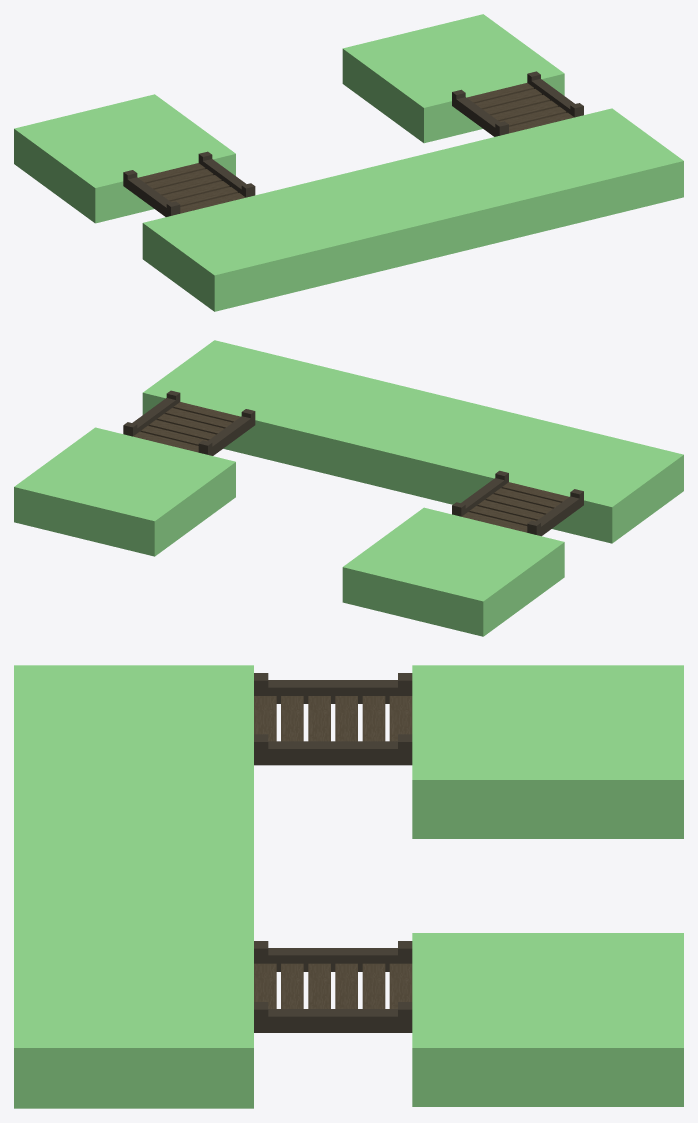
Rendered from New_Map_1.fbx.
The picture shows the model from 3 angles, top to bottom: view 1: azimuth 30°, elevation 25°; view 2: azimuth 150°, elevation 25°; view 3: azimuth 270°, elevation 25°; orthographic projection. The views are drawn at different scales.
Parts seen in each view (by area): view 1: Cube, Cube.001, Cube.002, Edge 2, Edge 2.001, Edge 1, Edge 1.001, Plank 1, Plank 2, Plank 3, Plank 4.001, Plank 1.001 (+7 smaller); view 2: Cube, Cube.002, Cube.001, Edge 2.001, Edge 2, Edge 1.001, Edge 1, Plank 3.001, Plank 4.001, Plank 3, Plank 4, Plank 5 (+7 smaller); view 3: Cube, Cube.001, Cube.002, Edge 1, Edge 1.001, Edge 2, Edge 2.001, Plank 2, Plank 2.001, Plank 3, Plank 4, Plank 5 (+7 smaller).
Boxes of the visible parts, left/top/right/bottom form: Cube: left=142, top=108, right=683, bottom=311; Cube.001: left=342, top=14, right=564, bottom=143; Cube.002: left=14, top=94, right=235, bottom=223; Edge 2: left=123, top=170, right=180, bottom=216; Edge 2.001: left=452, top=89, right=508, bottom=136; Edge 1: left=198, top=151, right=255, bottom=197; Edge 1.001: left=527, top=71, right=583, bottom=117; Plank 1: left=138, top=163, right=205, bottom=183; Plank 2: left=146, top=169, right=213, bottom=189; Plank 3: left=154, top=175, right=221, bottom=195; Plank 4.001: left=491, top=100, right=558, bottom=121; Plank 1.001: left=467, top=83, right=533, bottom=103; Cube: left=142, top=340, right=683, bottom=543; Cube.002: left=342, top=507, right=564, bottom=636; Cube.001: left=14, top=427, right=235, bottom=556; Edge 2.001: left=198, top=409, right=255, bottom=455; Edge 2: left=527, top=489, right=583, bottom=536; Edge 1.001: left=123, top=390, right=180, bottom=436; Edge 1: left=452, top=470, right=508, bottom=516; Plank 3.001: left=149, top=420, right=216, bottom=440; Plank 4.001: left=157, top=414, right=224, bottom=434; Plank 3: left=477, top=500, right=544, bottom=520; Plank 4: left=486, top=494, right=552, bottom=514; Plank 5: left=494, top=488, right=560, bottom=508; Cube: left=14, top=665, right=253, bottom=1108; Cube.001: left=412, top=933, right=683, bottom=1106; Cube.002: left=412, top=665, right=683, bottom=838; Edge 1: left=254, top=734, right=412, bottom=765; Edge 1.001: left=254, top=1002, right=412, bottom=1032; Edge 2: left=254, top=673, right=412, bottom=703; Edge 2.001: left=254, top=941, right=412, bottom=971; Plank 2: left=362, top=696, right=385, bottom=741; Plank 2.001: left=362, top=963, right=385, bottom=1008; Plank 3: left=335, top=696, right=357, bottom=741; Plank 4: left=308, top=696, right=330, bottom=741; Plank 5: left=281, top=696, right=303, bottom=741.
Size of the model in its own units: 1000 by 92.7 by 740.
